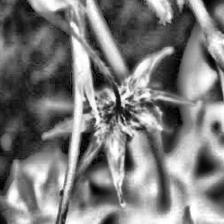Gray Mold: (43, 47, 173, 206)
